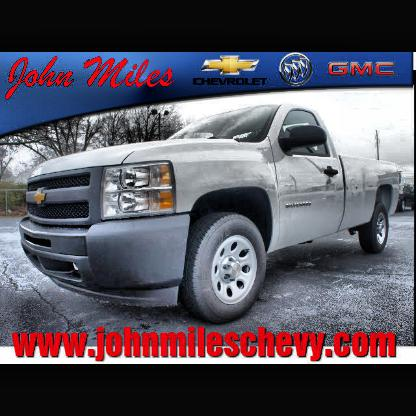Chevrolet Silverado 1500 Regular Cab 2012: (18, 102, 402, 326)
